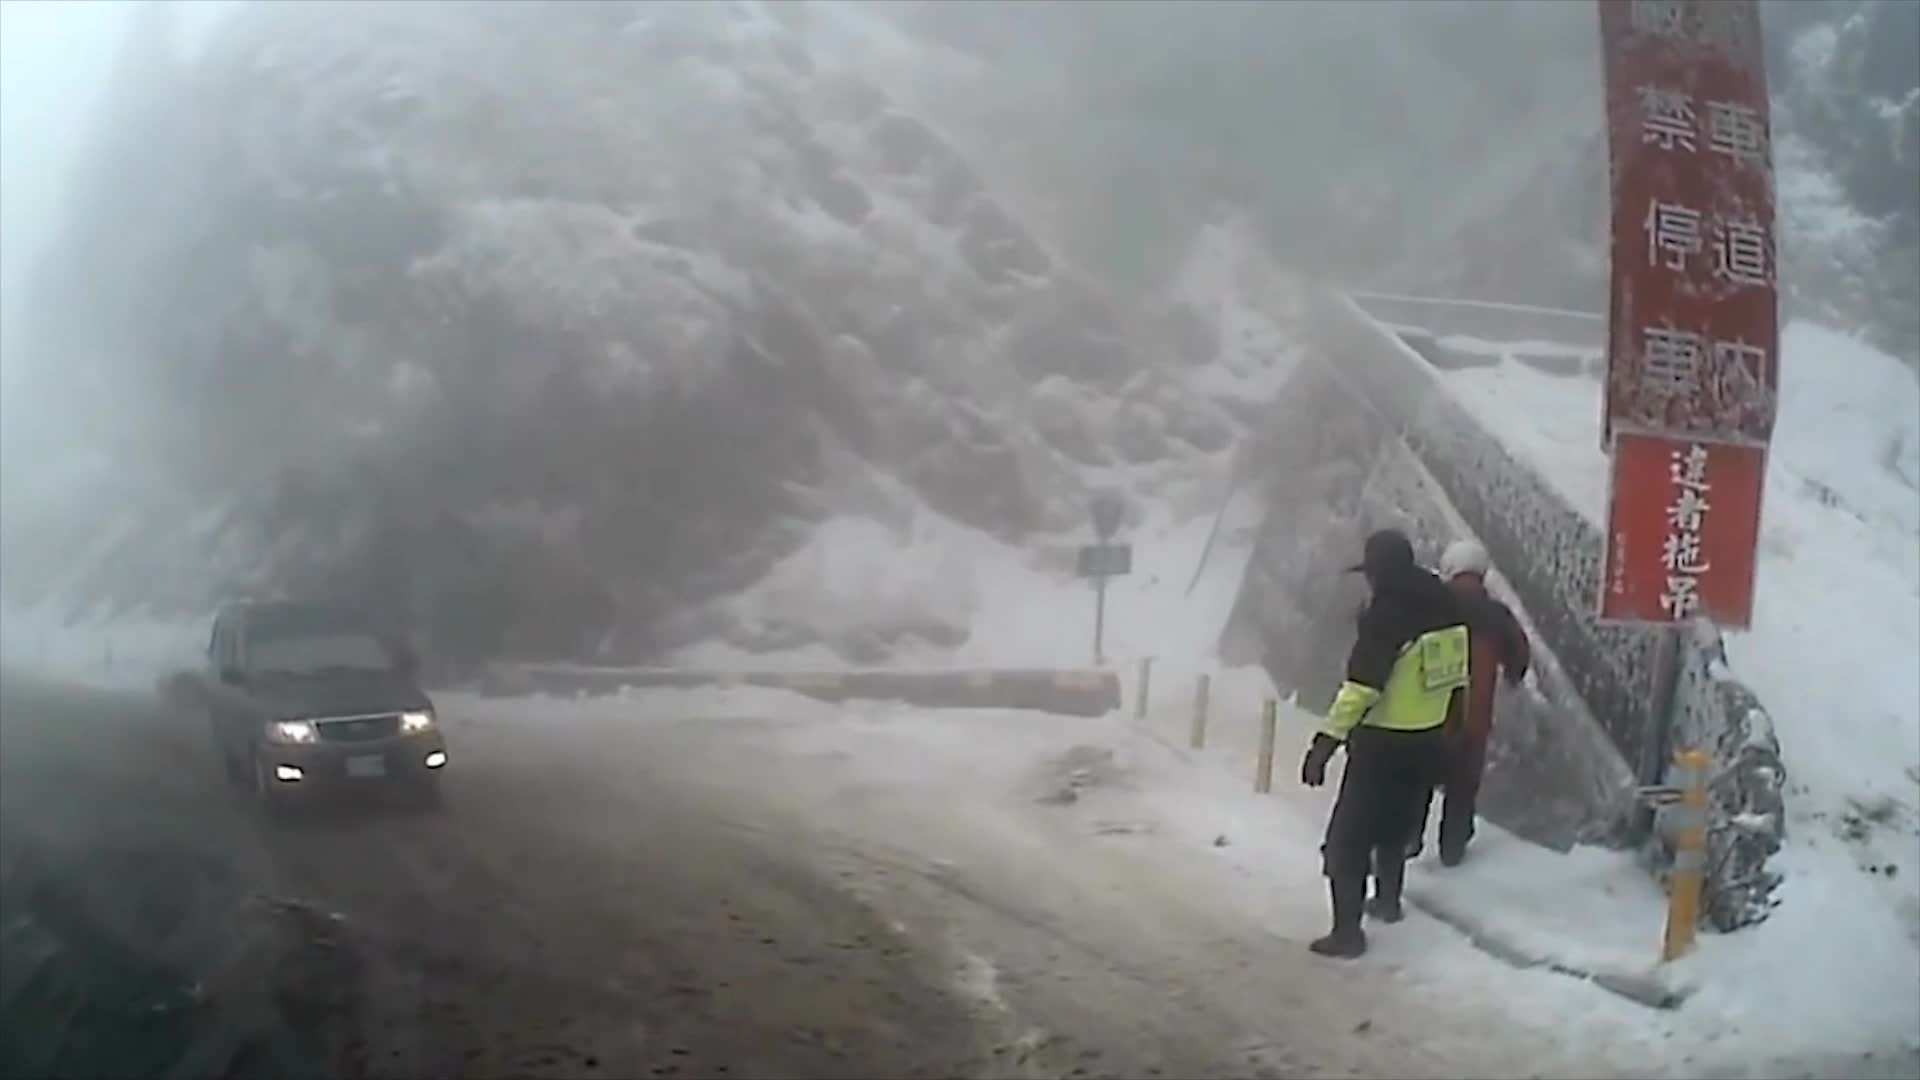pedestrian: (1297, 529, 1471, 957), (1392, 536, 1537, 870)
vehicle: (202, 594, 446, 816)
